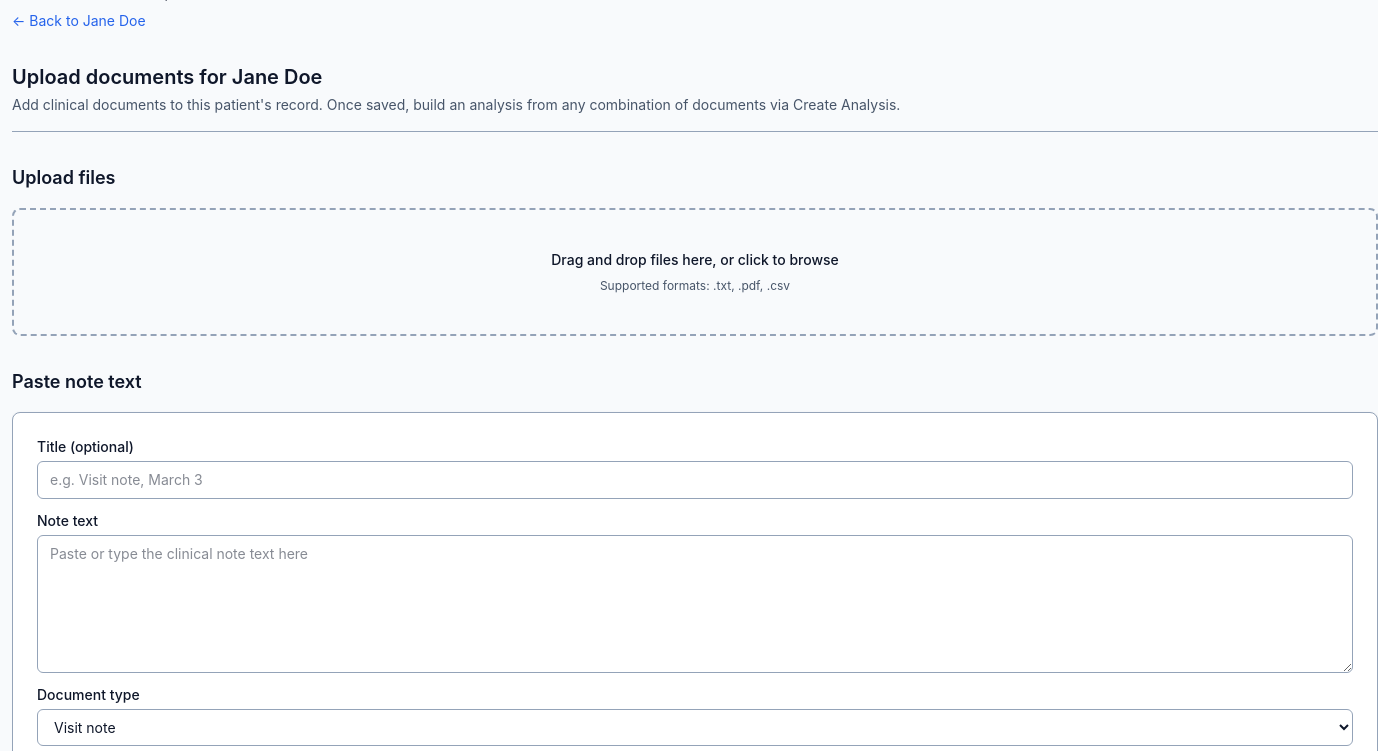
Scenario: UploadPage › removes a manually entered note
Expected: the heading "Upload documents for Jane Doe" is shown, [12, 65, 322, 89]
Type "Some note text" into the text box labelled "Note text" at (695, 604), box [37, 535, 1353, 673]
(page scrolled)
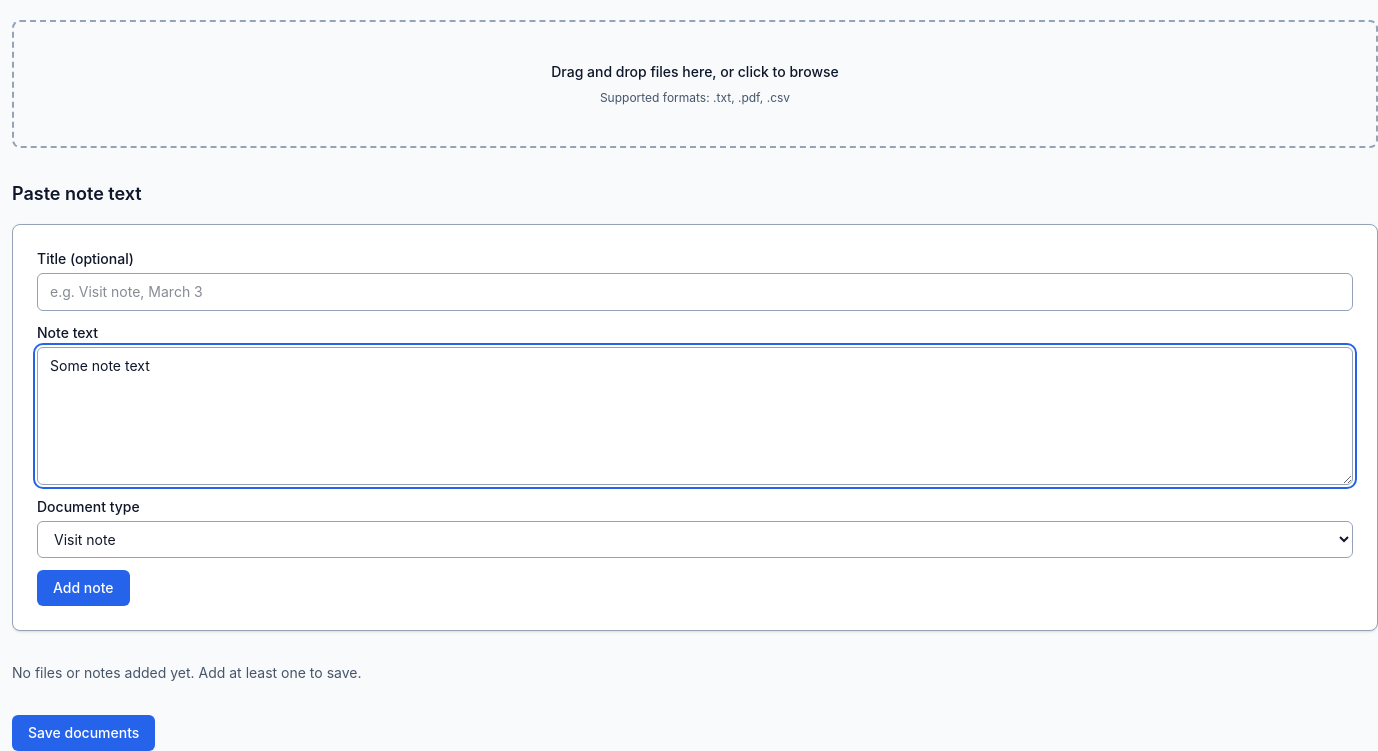
Click the button "Add note" at (83, 588), box [37, 570, 130, 606]
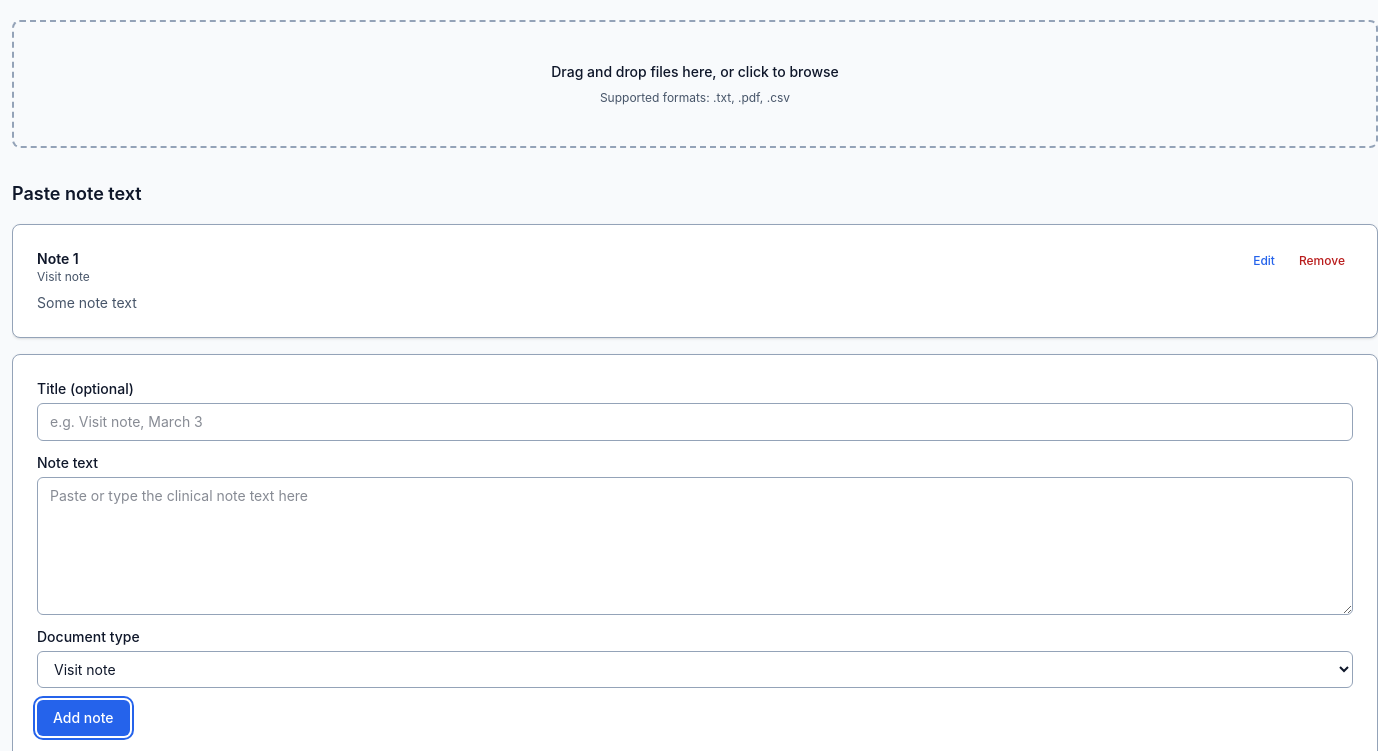
Result: the text "Some note text" is shown at [37, 294, 137, 311]
Click the button with aria-label "Remove Note 1" at (1322, 261), box [1291, 249, 1353, 273]
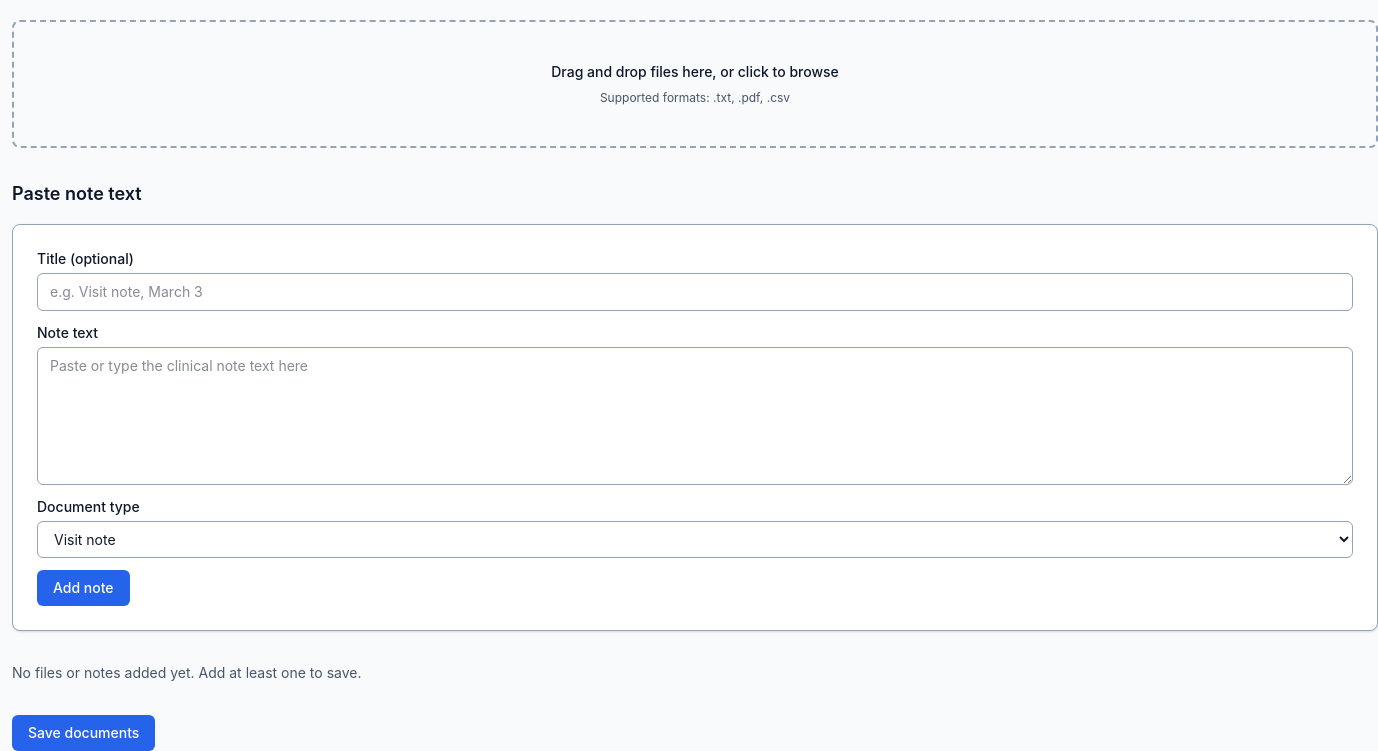
Result: the text "Some note text" is gone
